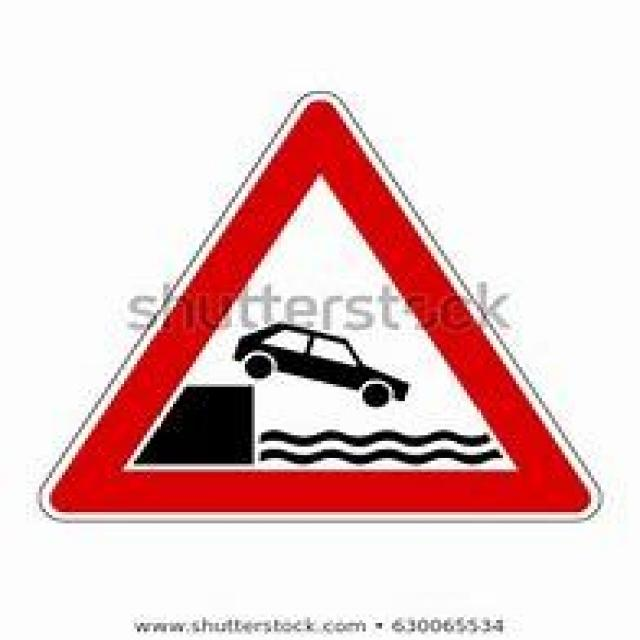QUAY_SIDE_OR_RIVER_BANK: (29, 88, 601, 521)
